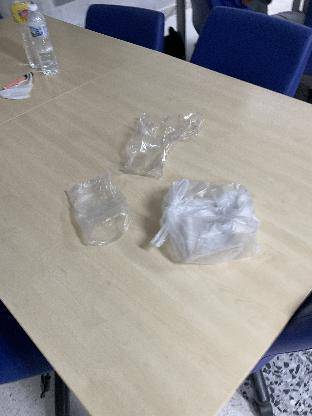Plastic Bag: (152, 172, 262, 280), (123, 102, 208, 182), (60, 170, 132, 252)
Plastic Bottle: (26, 1, 56, 80)
